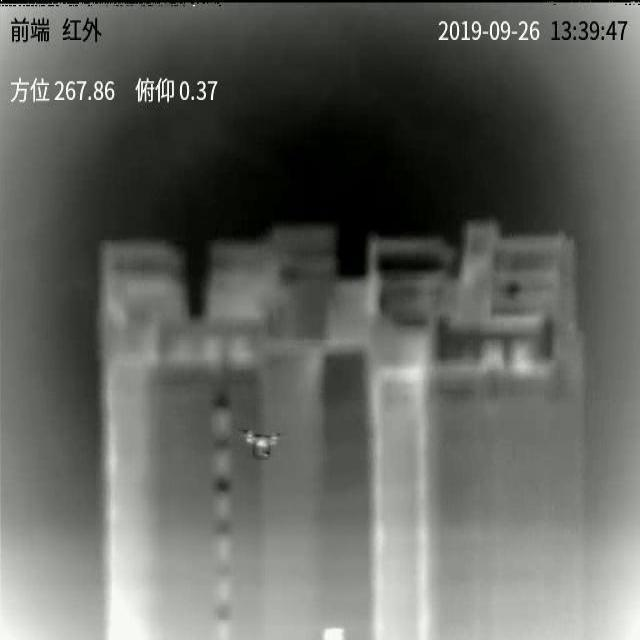drone: (241, 429, 281, 460)
